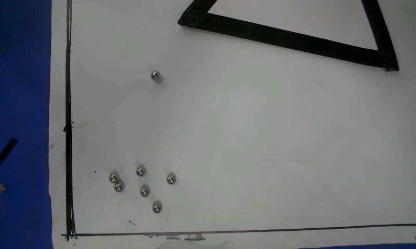ironball: (149, 69, 161, 82), (151, 200, 161, 213), (139, 184, 149, 197), (165, 172, 175, 184), (113, 181, 123, 192), (135, 165, 145, 176), (108, 173, 117, 183)
